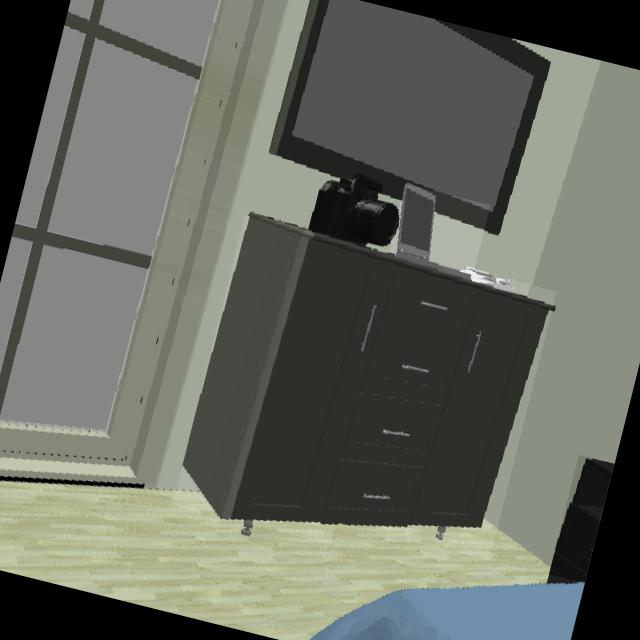bed: (310, 584, 584, 640)
cabinet: (185, 215, 551, 526)
laptop: (397, 184, 471, 278)
nighttable: (547, 459, 612, 583)
